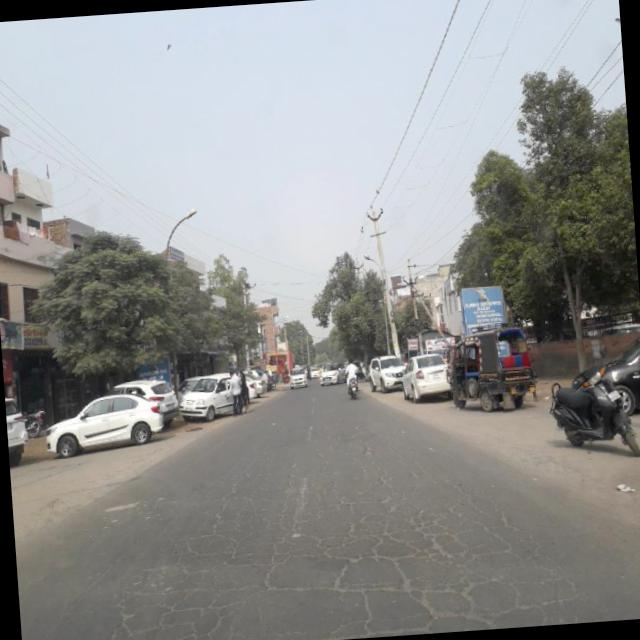crack: (77, 446, 585, 640)
